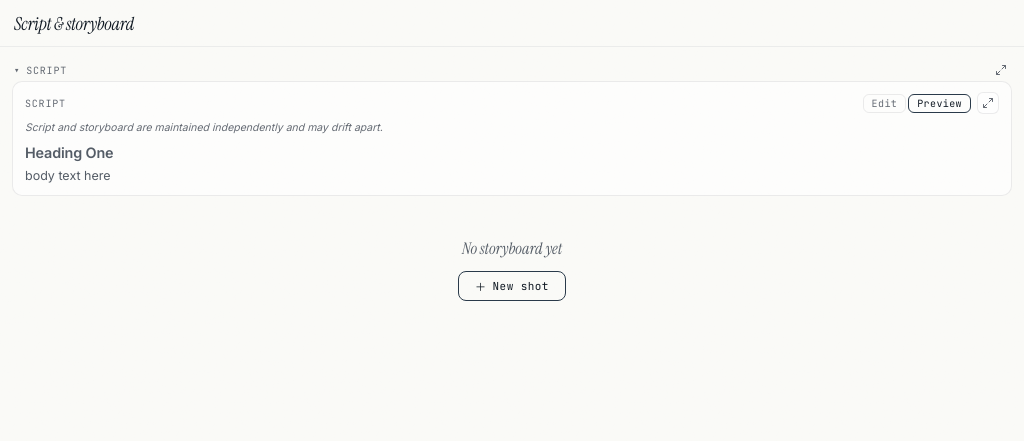
ScriptTab (S5) — 剧本 plan/script.md editor above the cards › toggles between edit (textarea) and react-markdown preview
Expected: the heading "Heading One" is shown, [25, 144, 113, 161]
Expected: the element with test id "script-preview" does not show "# Heading One"
Switch to edit → textarea returns, seeded from disk.
Click the button "Edit": (884, 103) [863, 94, 906, 112]
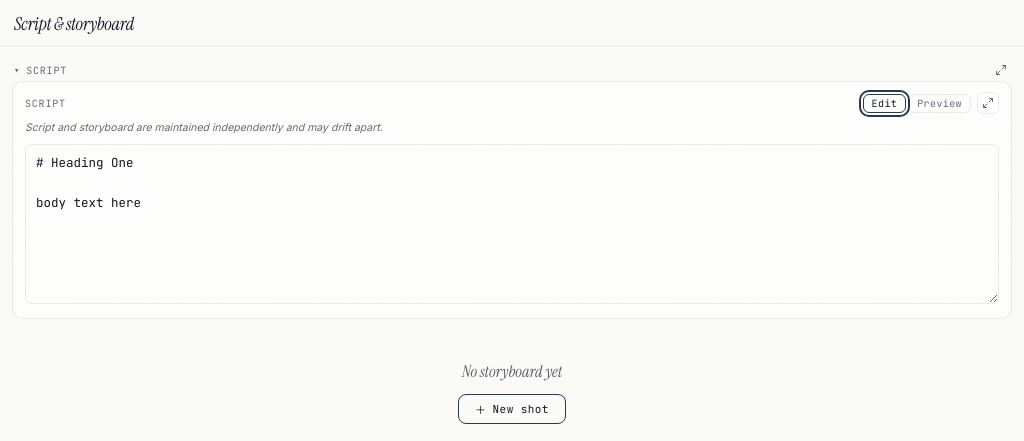
Switch back to preview → textarea gone, rendered markdown shown again.
Click the button "Preview": (940, 103) [908, 94, 971, 112]
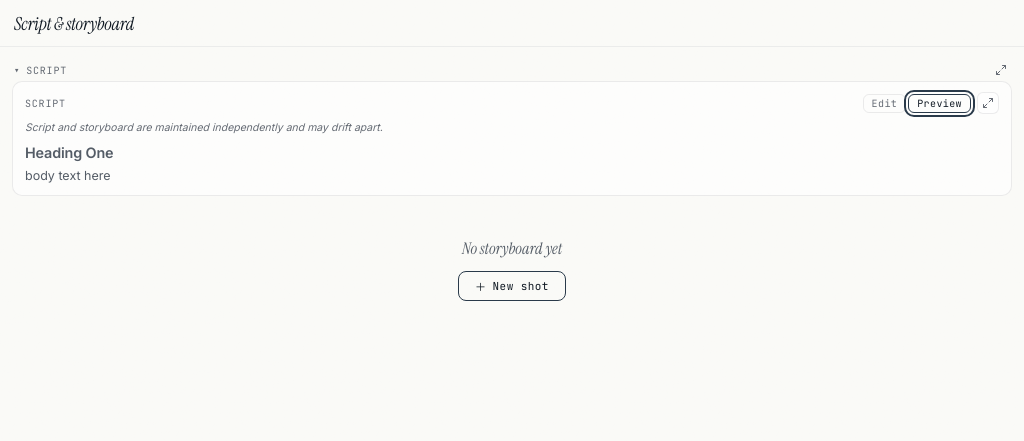
Expected: the heading "Heading One" is shown, [25, 144, 113, 161]
